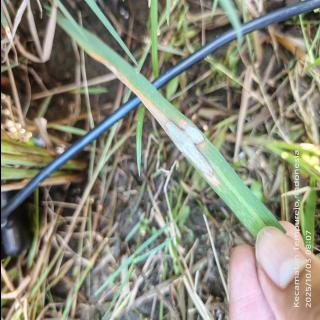Blast: (160, 110, 226, 196)
Hawar-Daun: (89, 46, 160, 119)
